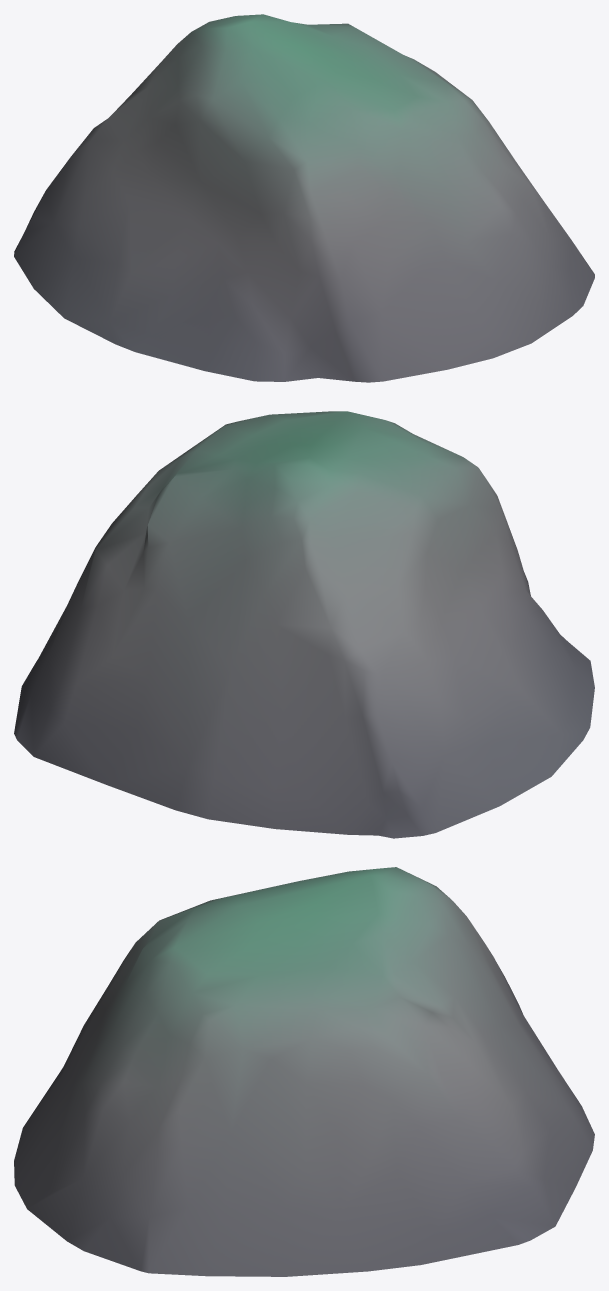
The model's file is S_BoulderMedium_Moss_VarC.fbx.
3 renders of one model, top to bottom at view 1: azimuth 30°, elevation 25°; view 2: azimuth 150°, elevation 25°; view 3: azimuth 270°, elevation 25°, orthographic. The views are drawn at different scales.
Parts seen in each view (by area): view 1: S_BoulderMedium_Moss_VarC_GEO; view 2: S_BoulderMedium_Moss_VarC_GEO; view 3: S_BoulderMedium_Moss_VarC_GEO.
Boxes of the visible parts, <box> form: S_BoulderMedium_Moss_VarC_GEO: <box>14,14,594,382</box>; S_BoulderMedium_Moss_VarC_GEO: <box>14,411,594,838</box>; S_BoulderMedium_Moss_VarC_GEO: <box>14,867,594,1276</box>.
Bounding box in the file's own units: 4.79 × 2.43 × 4.83.
